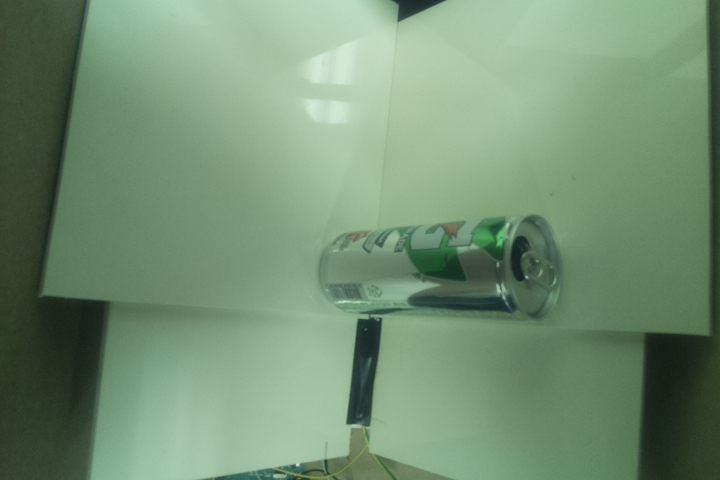can: (320, 213, 565, 323)
